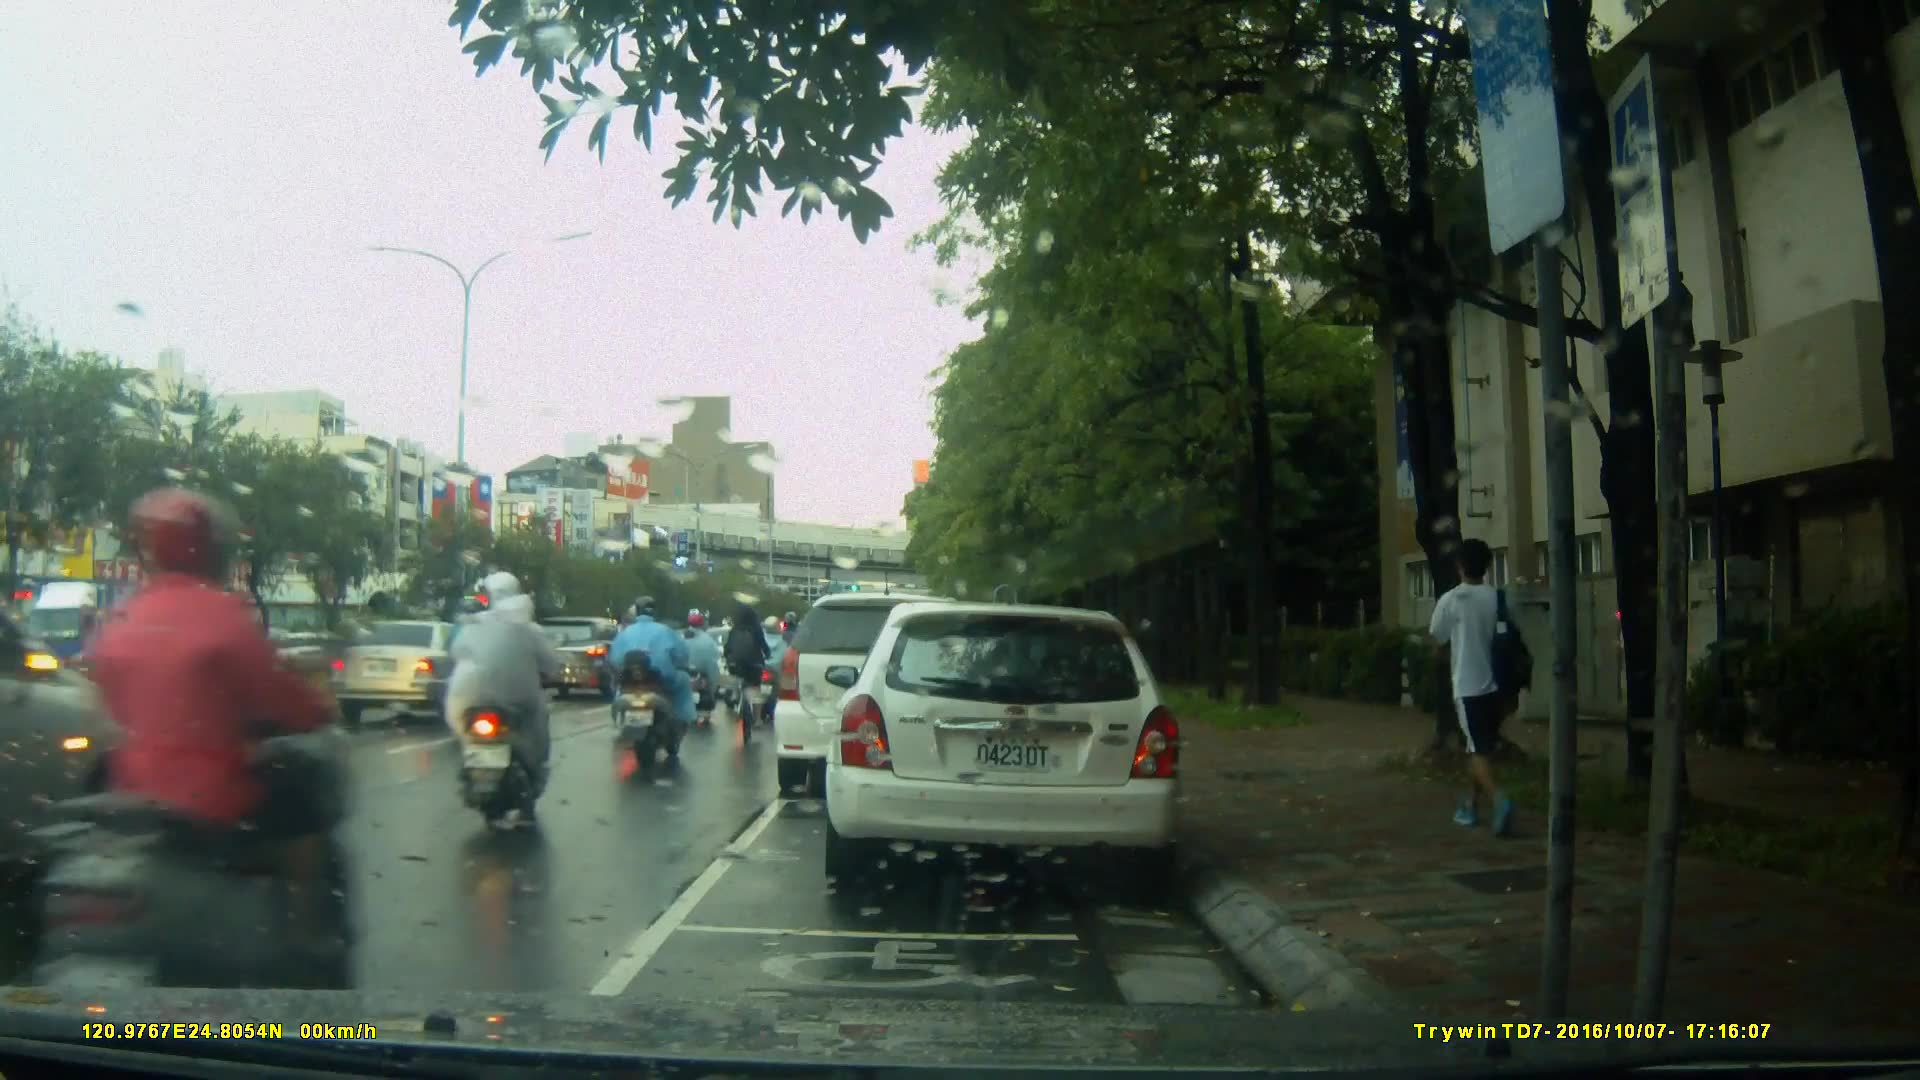pedestrian: (1436, 518, 1546, 867)
rider: (78, 475, 328, 1018), (451, 576, 563, 839), (619, 600, 698, 767), (436, 602, 497, 759), (725, 602, 776, 761), (670, 606, 724, 720), (717, 614, 762, 709), (750, 619, 792, 719)
vehicle: (822, 604, 1188, 882), (774, 595, 995, 802), (325, 618, 495, 727), (525, 616, 644, 705), (144, 630, 241, 686)
